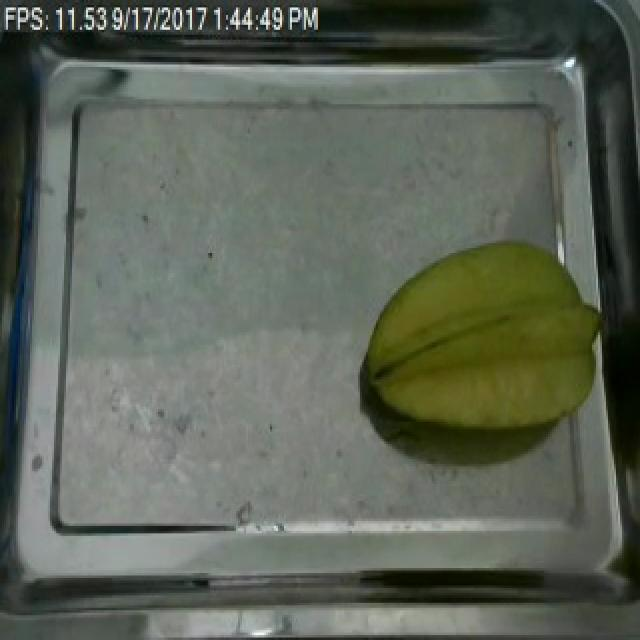fruit: (352, 231, 618, 449)
